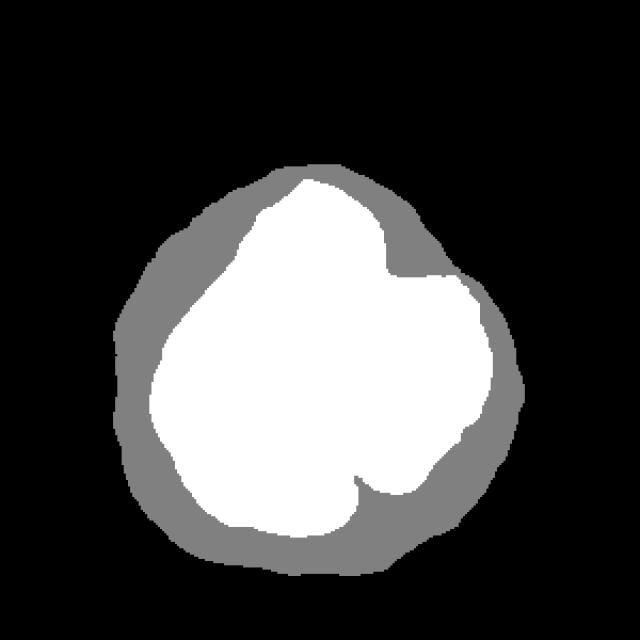WBC: (87, 149, 544, 591)
